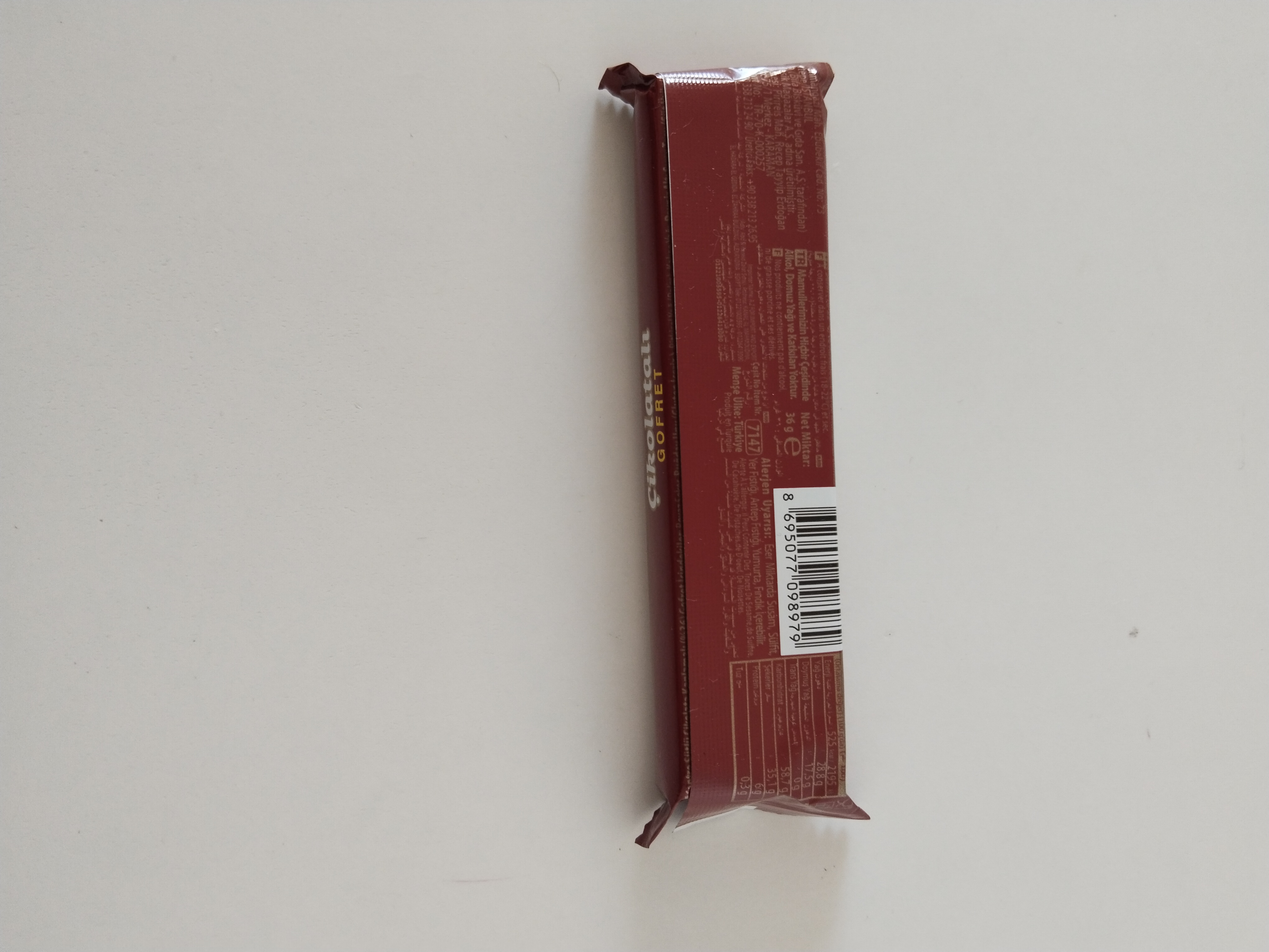centro_gofret: (601, 56, 841, 847)
